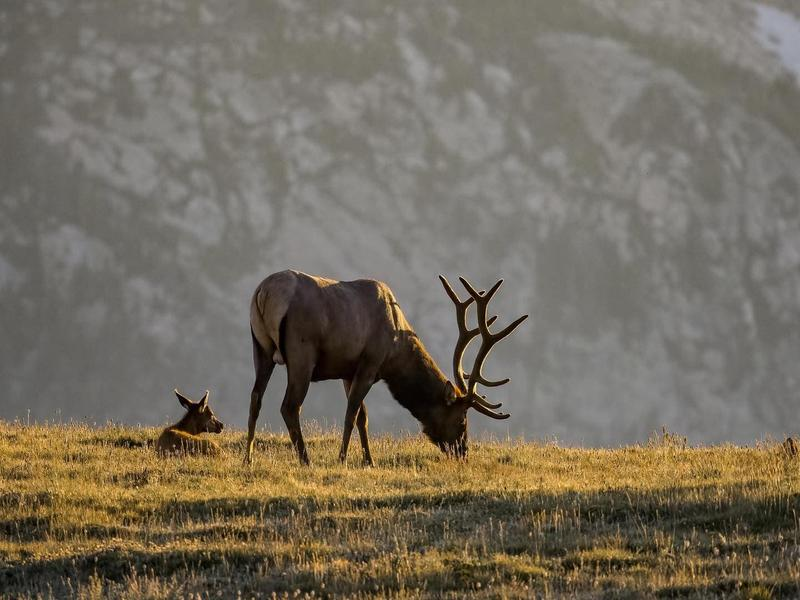elk: (242, 265, 518, 469), (152, 384, 232, 465)
